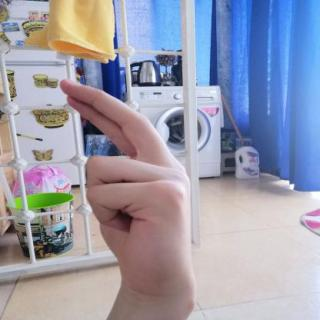ZAY: (47, 70, 206, 308)
